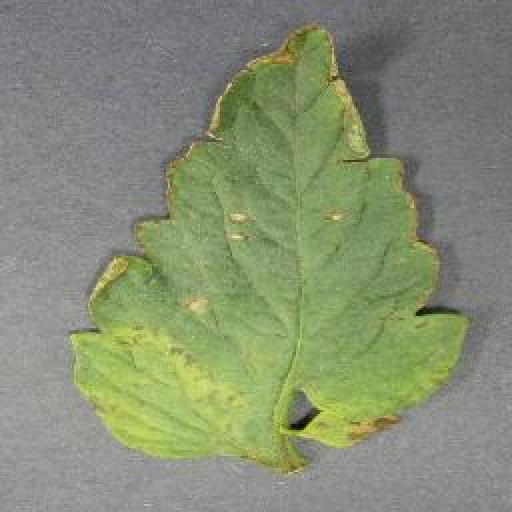Bacterial Spot: (63, 20, 473, 471)
